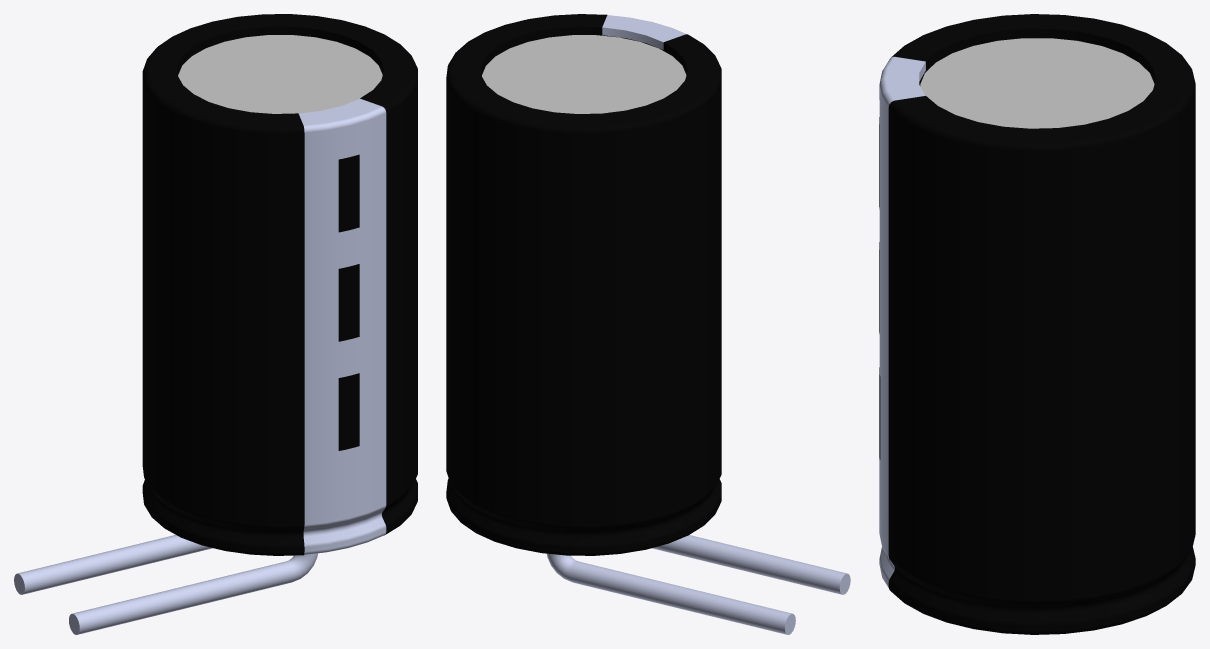
File: capacitor.fbx
3 views of the same model, side by side, from view 1: azimuth 30°, elevation 25°; view 2: azimuth 150°, elevation 25°; view 3: azimuth 270°, elevation 25° (orthographic). The views are drawn at different scales.
Visible parts, largest first — view 1: Boss-Extrude2, Revolve-Thin1; view 2: Boss-Extrude2; view 3: Boss-Extrude2.
Boxes of the visible parts, x1,y1,x2,y2 form: Boss-Extrude2: [14, 14, 417, 634]; Revolve-Thin1: [338, 373, 359, 450]; Boss-Extrude2: [446, 14, 850, 634]; Boss-Extrude2: [879, 14, 1195, 634].
Bounding box in the file's own units: 0.3661 × 0.4821 × 0.248.
